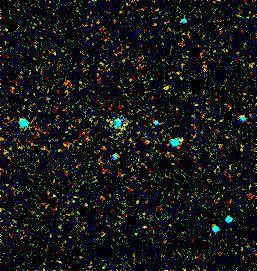star: (134, 126, 164, 156)
